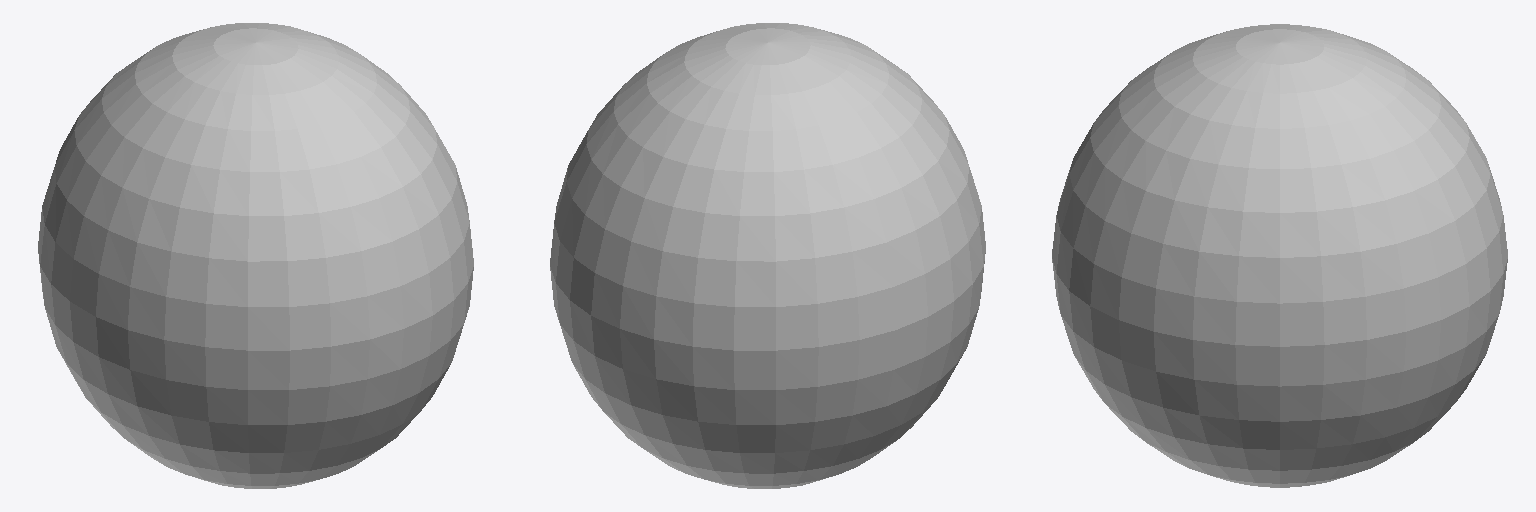
File: shar.obj
3 views of the same model, side by side, from view 1: azimuth 30°, elevation 25°; view 2: azimuth 150°, elevation 25°; view 3: azimuth 270°, elevation 25° (orthographic).
Visible parts, largest first — view 1: default; view 2: default; view 3: default.
Boxes of the visible parts, <box> form: default: <box>38,23,473,488</box>; default: <box>550,23,985,488</box>; default: <box>1052,24,1507,487</box>.
Size of the model in its own units: 0.0714 by 0.0782 by 0.0758.